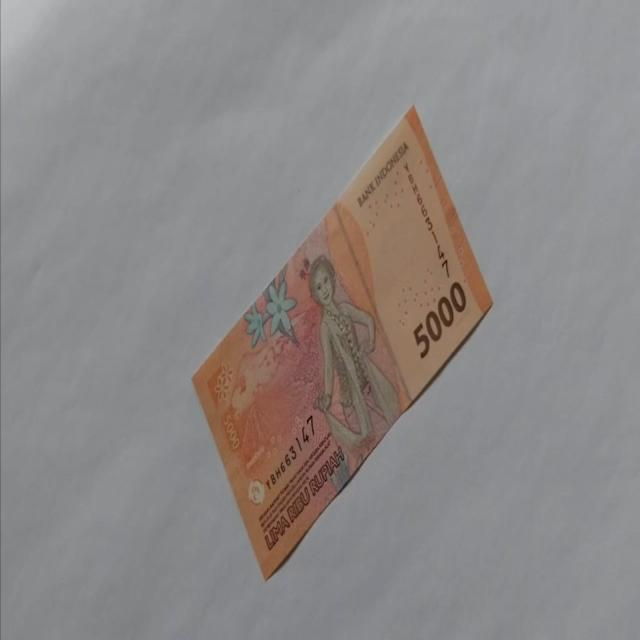lima ribu rupiah: (190, 103, 494, 581)
